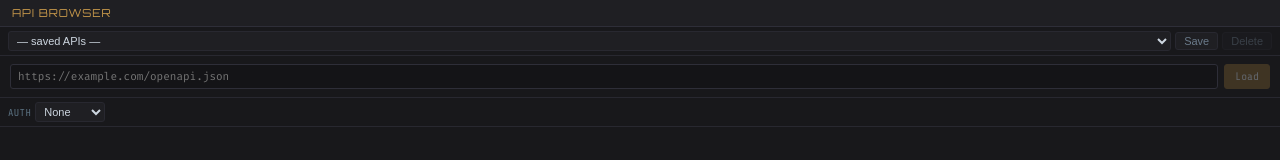
Scenario: AuthConfig UI › shows token input when bearer is selected
This screenshot has width=1280, height=160.
Select "Bearer" in the dropdown showing "None" next to "Auth": (70, 112) [35,102,105,122]
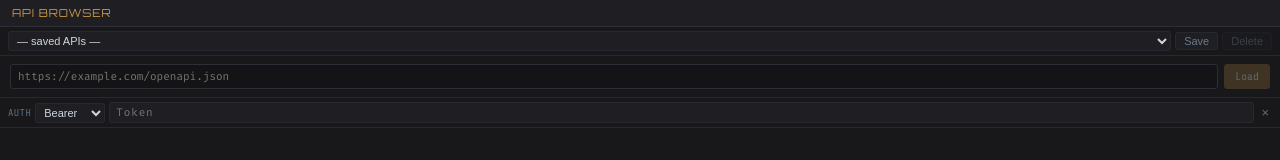
Expected: the password field with placeholder "Token" is shown, [109,102,1254,123]
